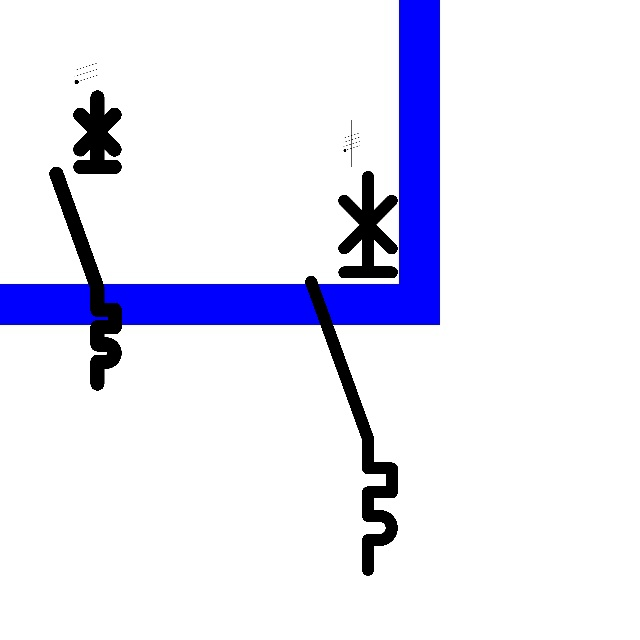interruptor_termomagnetico: (301, 166, 402, 579), (49, 90, 122, 391)
